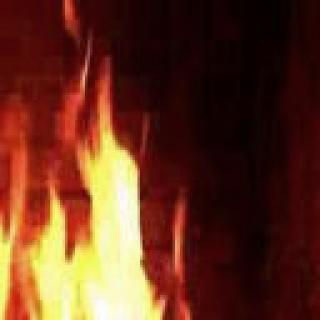fire: (0, 41, 163, 320)
